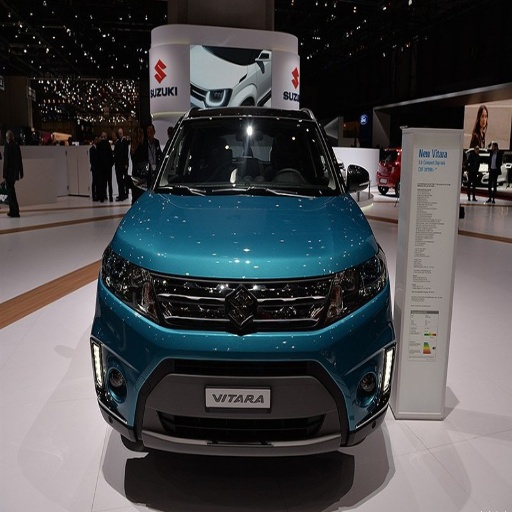front_bumper: (95, 270, 399, 452)
front_right_light: (101, 252, 155, 317)
hood: (117, 192, 376, 278)
